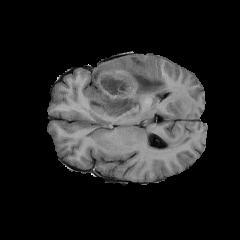glioma: (89, 56, 170, 119)
